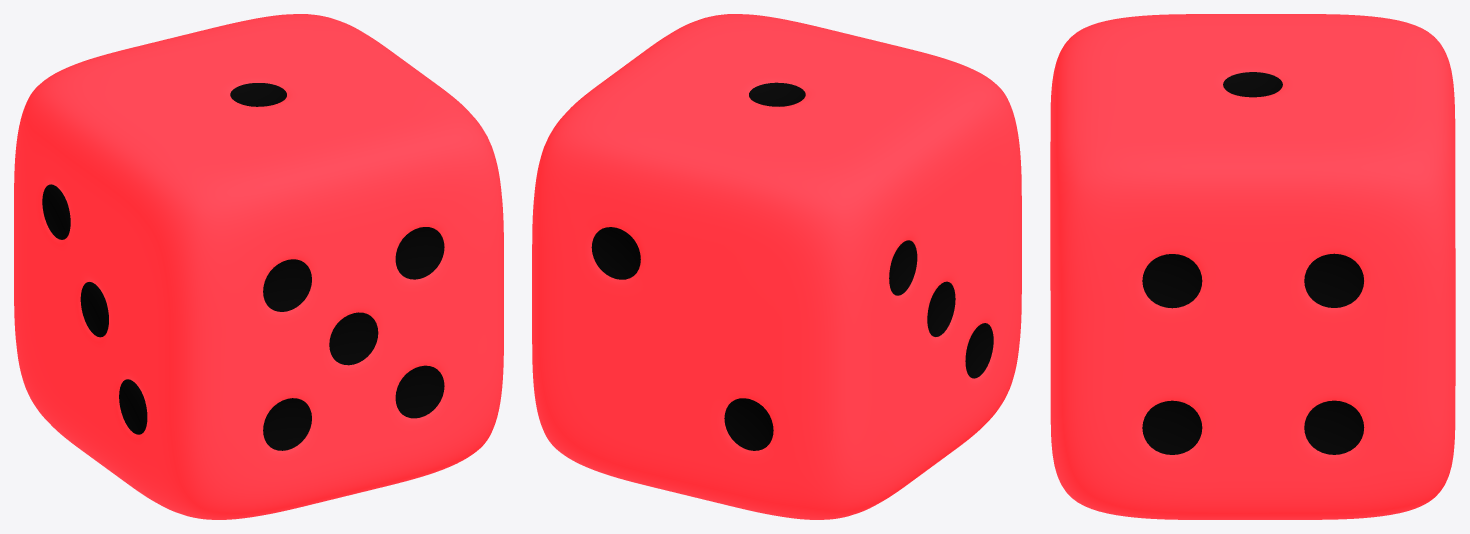
3 views of the same model, side by side, from view 1: azimuth 30°, elevation 25°; view 2: azimuth 150°, elevation 25°; view 3: azimuth 270°, elevation 25° (orthographic). The views are drawn at different scales.
Parts seen in each view (by area): view 1: Dice_Cube; view 2: Dice_Cube; view 3: Dice_Cube.
Part boxes in pixels (x1,y1,x2,y2): Dice_Cube: (14, 14, 503, 519); Dice_Cube: (532, 14, 1021, 519); Dice_Cube: (1050, 14, 1455, 519).
Bounding box in the file's own units: 2 × 2 × 2.
